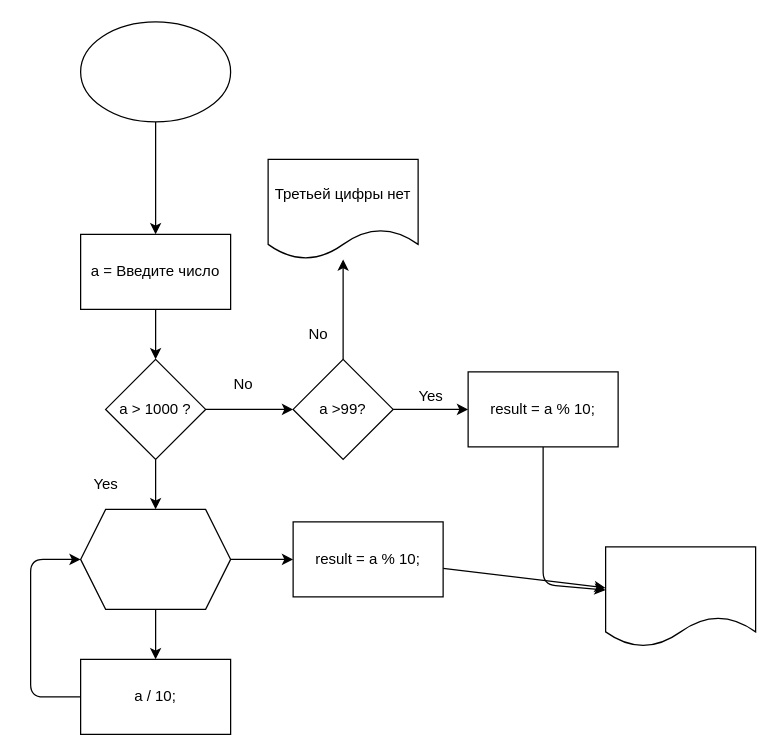
The diagram is 778 pixels wide and 756 high, and some of its shapes have lost their labels. The shapes that lost their labels are listed below. From the top down, each one's box as (x1, y1, x2, y2) in pixels, then its label:
(79, 21, 231, 122): Start
(79, 508, 231, 609): a > 1000
(604, 546, 756, 647): Третья цифра result
